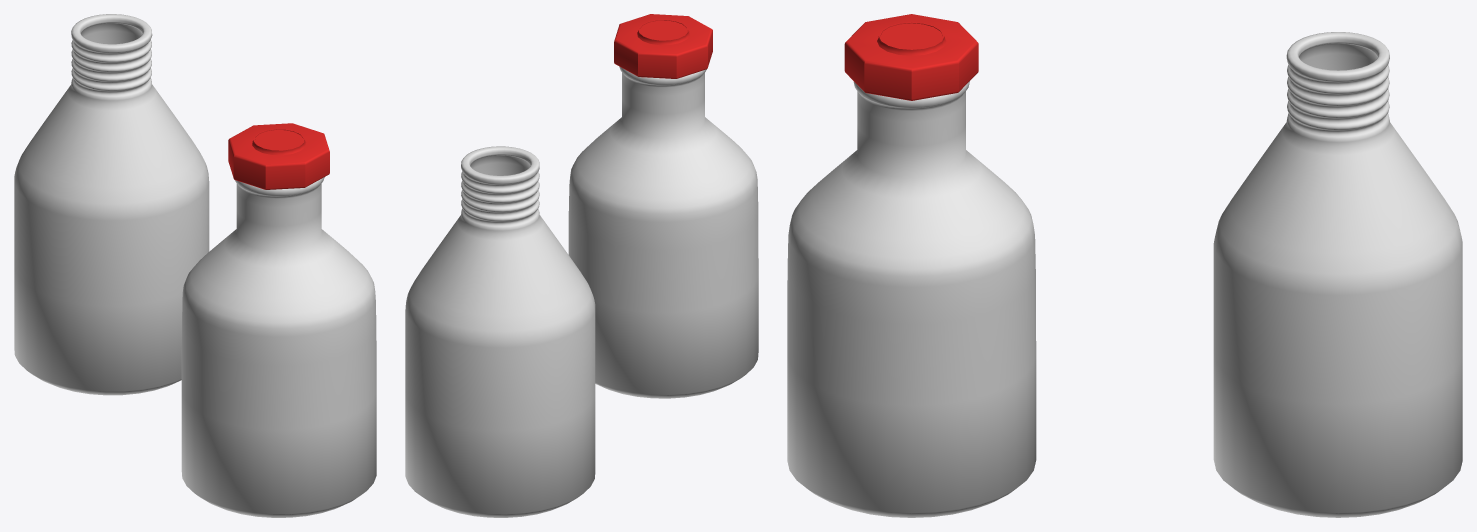
Rendered from Bottle.fbx.
The picture shows the model from 3 angles, left to right: view 1: azimuth 30°, elevation 25°; view 2: azimuth 150°, elevation 25°; view 3: azimuth 270°, elevation 25°; orthographic projection. The views are drawn at different scales.
Parts seen in each view (by area): view 1: Bottle100, Bottle200, ForBottle200; view 2: Bottle100, Bottle200, ForBottle200; view 3: Bottle100, Bottle200, ForBottle200.
Part boxes in pixels (left/top/right/bottom): Bottle100: left=14, top=14, right=209, bottom=395; Bottle200: left=181, top=177, right=376, bottom=517; ForBottle200: left=228, top=123, right=329, bottom=189; Bottle100: left=405, top=146, right=595, bottom=517; Bottle200: left=568, top=66, right=758, bottom=398; ForBottle200: left=614, top=14, right=712, bottom=78; Bottle100: left=1213, top=32, right=1462, bottom=517; Bottle200: left=787, top=81, right=1036, bottom=517; ForBottle200: left=844, top=14, right=978, bottom=100.
Bounding box in the file's own units: 1.6 × 3.12 × 4.35.
